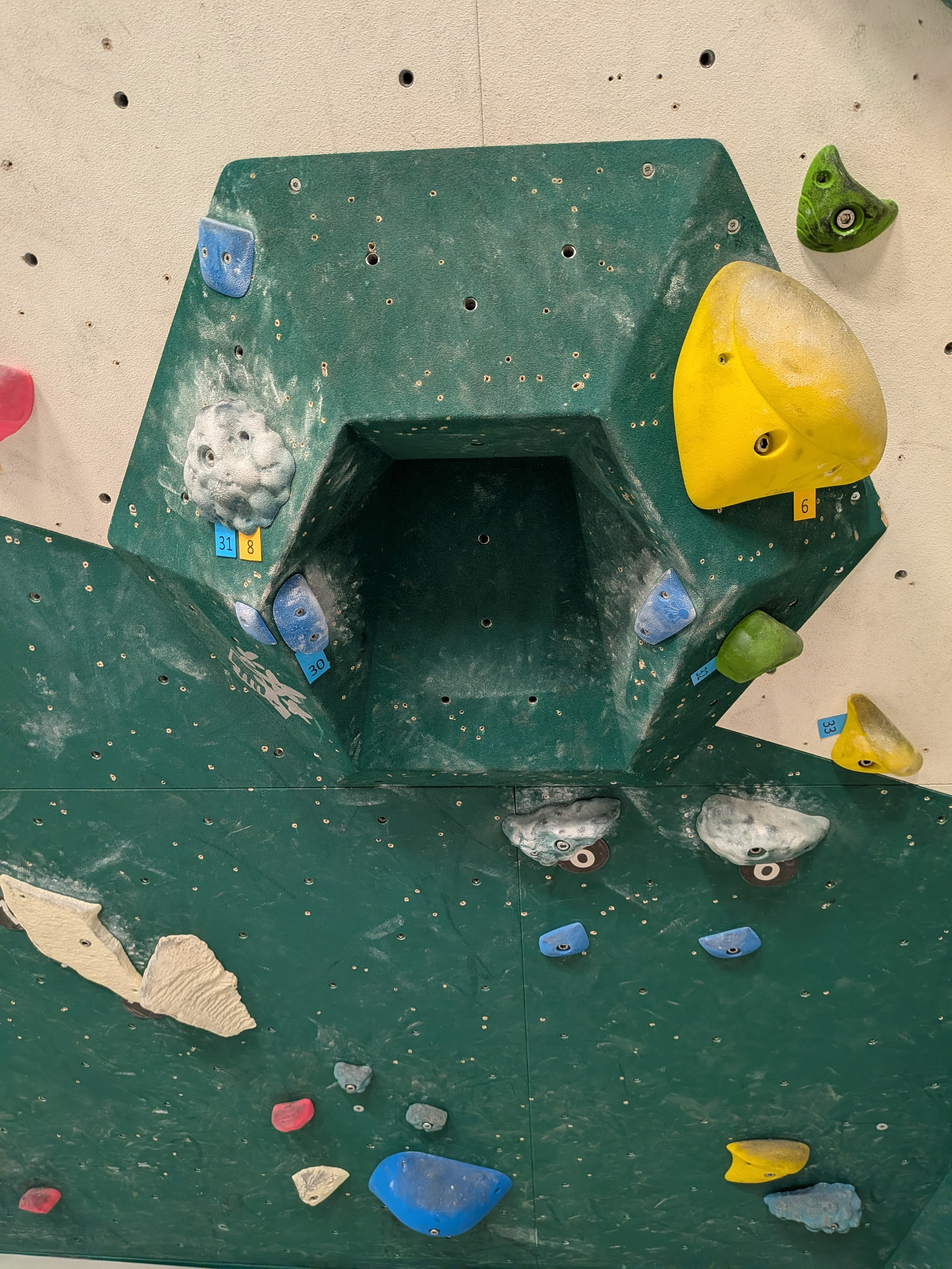hold: (673, 261, 886, 509), (0, 875, 142, 998), (183, 401, 295, 535), (368, 1152, 512, 1236), (139, 935, 256, 1036), (797, 144, 898, 252), (697, 794, 829, 866), (502, 798, 620, 864), (832, 694, 921, 776), (716, 611, 803, 683), (767, 1183, 864, 1233), (635, 569, 696, 644), (198, 218, 255, 297), (273, 574, 328, 653), (729, 1140, 812, 1184), (0, 364, 34, 440), (291, 1167, 347, 1206), (235, 601, 276, 645), (700, 929, 761, 958), (540, 923, 591, 957), (270, 1100, 313, 1132), (333, 1063, 371, 1094), (407, 1104, 446, 1133), (17, 1188, 59, 1214)
volume: (105, 136, 890, 788)
